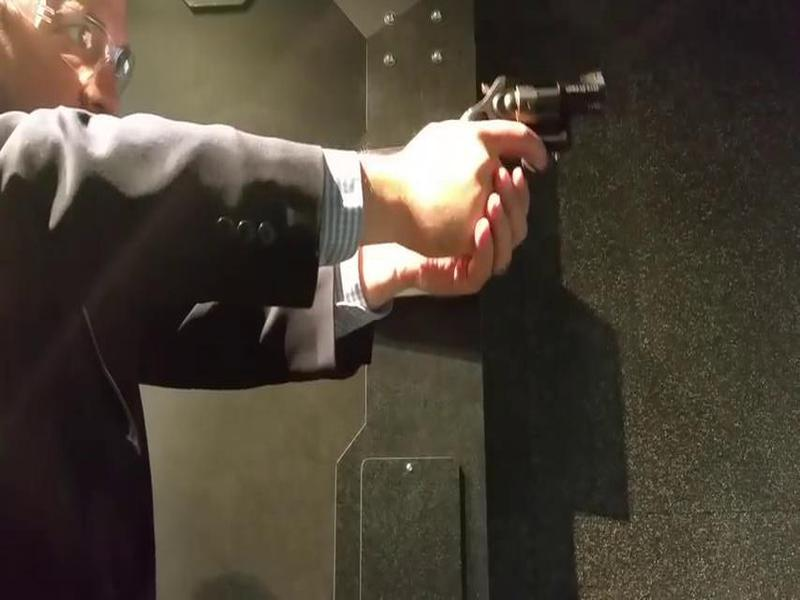Revolver: (466, 63, 627, 201)
